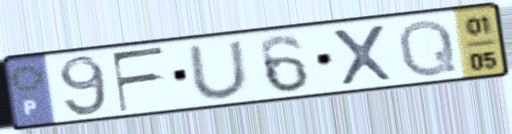6: (256, 32, 313, 96)
9: (54, 53, 110, 118)
F: (108, 44, 169, 115)
Q: (395, 16, 461, 80)
U: (184, 37, 254, 101)
X: (327, 21, 398, 89)
